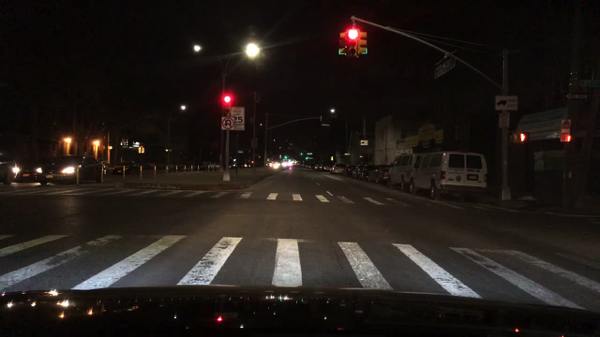car: (408, 150, 488, 201), (41, 156, 103, 186), (385, 152, 421, 190), (11, 157, 46, 184), (115, 160, 140, 177), (0, 153, 13, 183), (360, 166, 380, 185), (375, 166, 394, 185), (97, 160, 114, 177), (369, 168, 386, 184), (330, 162, 348, 174), (355, 167, 371, 180), (138, 162, 156, 173), (157, 163, 174, 173), (174, 163, 188, 173), (187, 163, 207, 170), (282, 160, 294, 171), (351, 169, 365, 178), (267, 160, 279, 169), (345, 166, 355, 176), (321, 164, 332, 173), (205, 161, 214, 172), (313, 164, 327, 171), (213, 160, 221, 170), (242, 162, 252, 170), (317, 164, 327, 170), (307, 165, 317, 171), (230, 162, 238, 169), (299, 162, 306, 169), (302, 163, 310, 167)
traffic light: (358, 30, 368, 56), (348, 28, 357, 56), (337, 28, 346, 56), (515, 132, 526, 143), (224, 91, 229, 106)
traffic sign: (433, 59, 456, 80), (495, 97, 518, 110), (559, 119, 572, 142), (231, 108, 242, 131), (499, 112, 509, 130), (566, 93, 588, 101), (580, 80, 599, 88), (221, 118, 232, 130), (250, 139, 258, 150), (136, 146, 145, 153), (359, 139, 368, 146), (307, 152, 315, 156), (250, 117, 254, 125), (330, 156, 334, 162)
